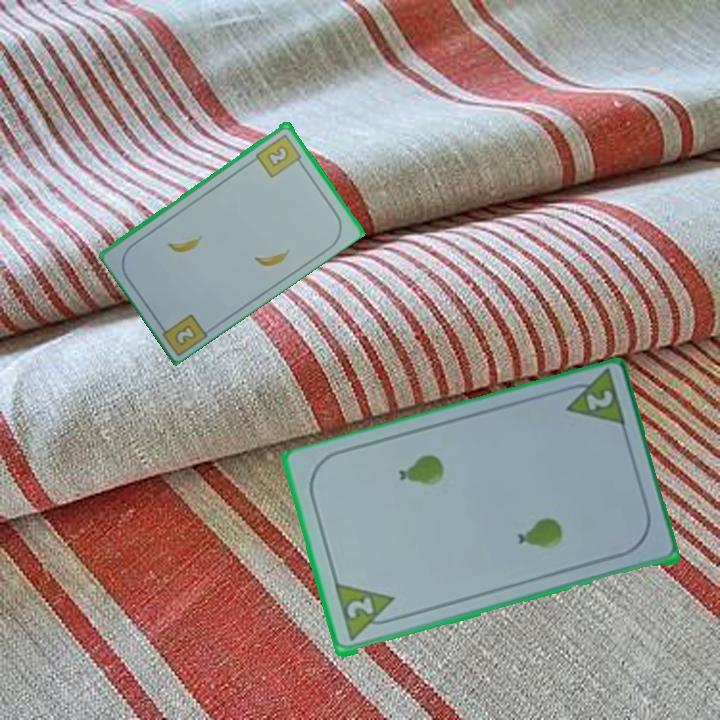2b: (252, 130, 306, 180), (173, 320, 199, 346)
2p: (331, 581, 401, 645), (582, 387, 616, 415)
